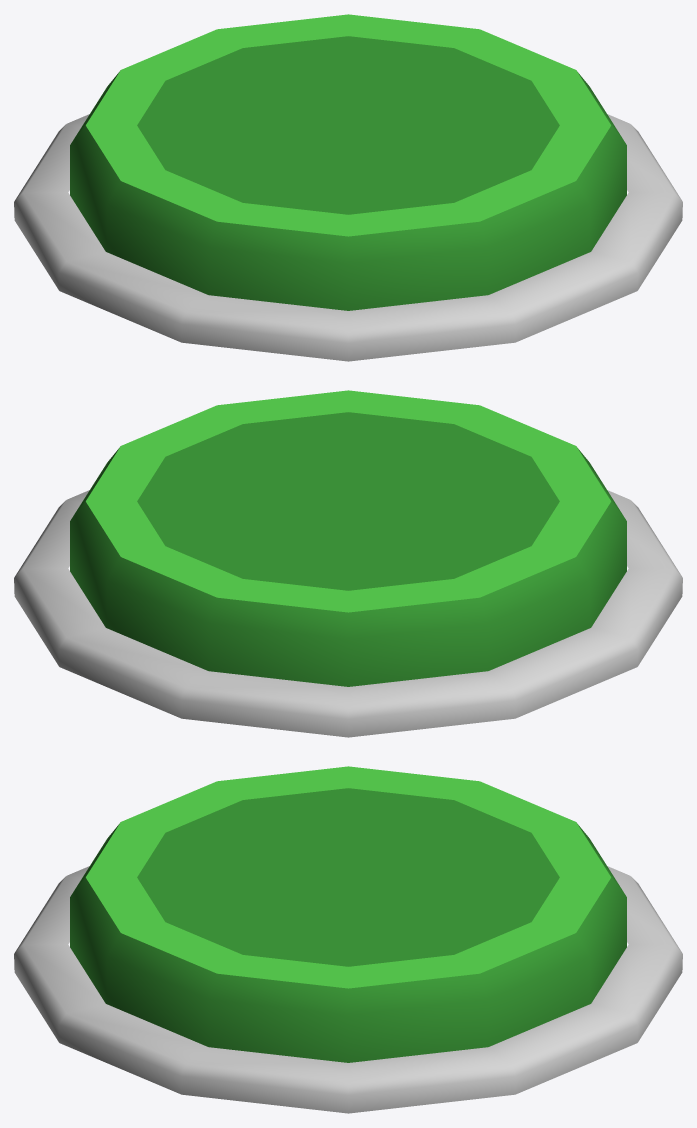
File: Gbutton.fbx
3 renders of one model, top to bottom at view 1: azimuth 30°, elevation 25°; view 2: azimuth 150°, elevation 25°; view 3: azimuth 270°, elevation 25°, orthographic.
Visible parts, largest first — view 1: Cylinder.003, Cylinder.002; view 2: Cylinder.003, Cylinder.002; view 3: Cylinder.003, Cylinder.002.
Part boxes in pixels (bbox=[...]): Cylinder.003: bbox=[70, 14, 626, 310]; Cylinder.002: bbox=[14, 114, 682, 361]; Cylinder.003: bbox=[70, 390, 626, 686]; Cylinder.002: bbox=[14, 490, 682, 737]; Cylinder.003: bbox=[70, 766, 626, 1062]; Cylinder.002: bbox=[14, 866, 682, 1113].
Size of the model in its own units: 220 by 34.45 by 220.
